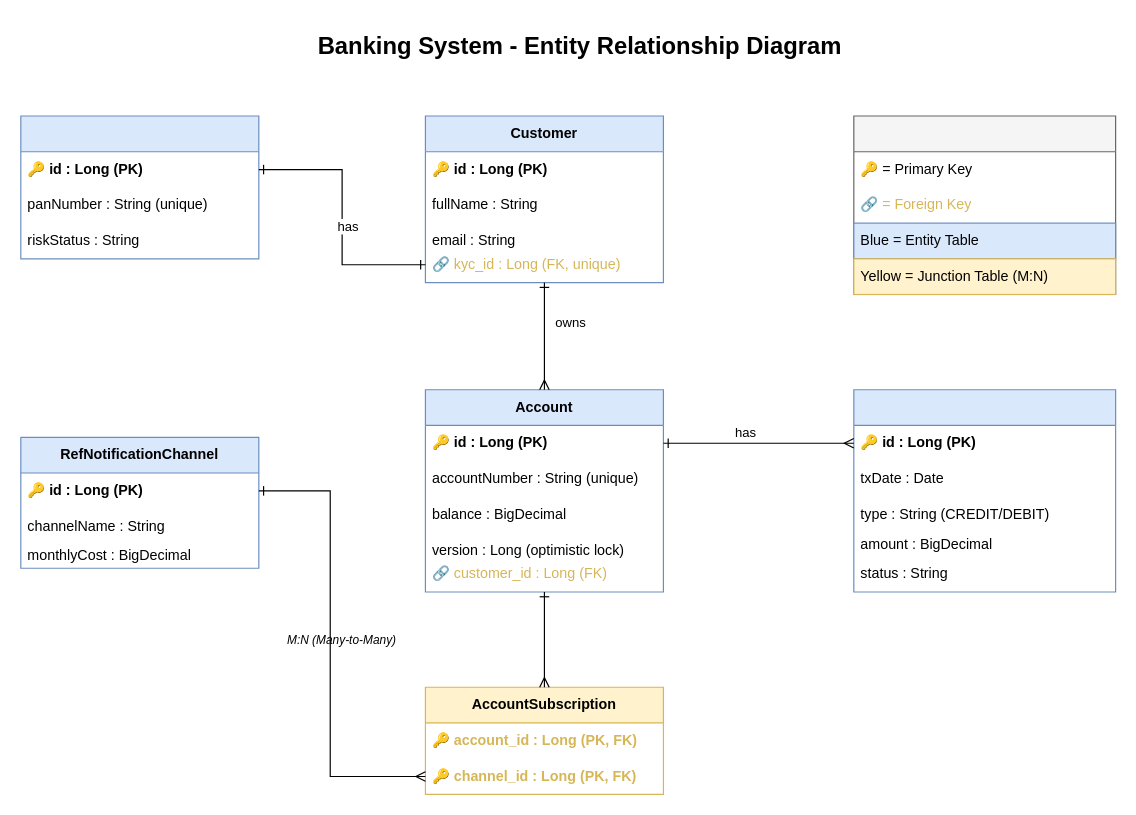
The diagram is 1136 pixels wide and 815 high, and some of its shapes have lost their labels. The shapes that lost their labels are listed below. From the top down, each one's box as (x1, y1, x2, y2) in pixels, then its label:
(20, 115, 259, 259): KycProfile
(853, 115, 1116, 295): Legend
(853, 389, 1116, 592): BankTransaction
